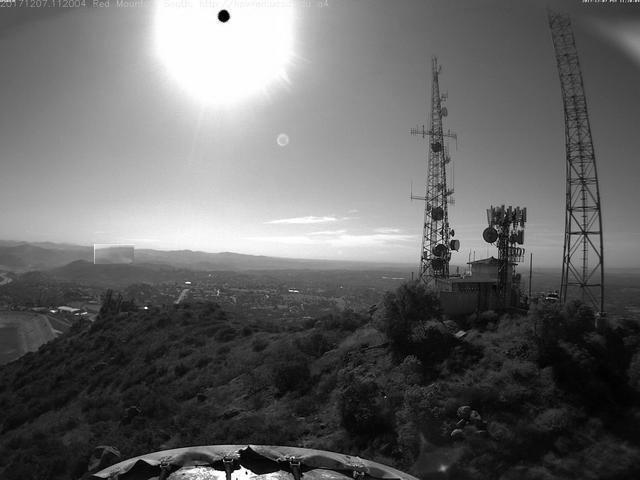smoke: (95, 245, 136, 266)
